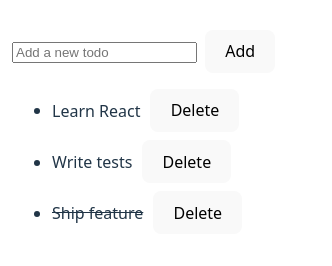
Scenario: TodoList › adding a new todo works
The image size is (332, 266).
Type "New Task" into the field with placeholder "Add a new todo".
click(104, 53); type("New Task")  # box [12, 42, 197, 63]
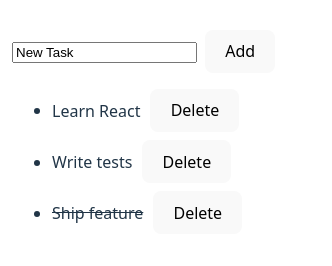
Click the button "Add".
click(240, 51)  # box [205, 30, 275, 73]
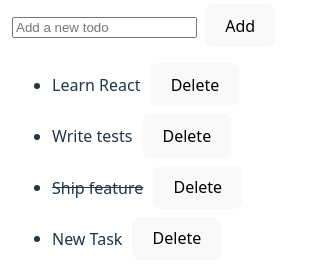
Check: the button "New Task" is shown, box [52, 227, 122, 249]
Check: the field with placeholder "Add a new todo" is empty, box [12, 17, 197, 38]
